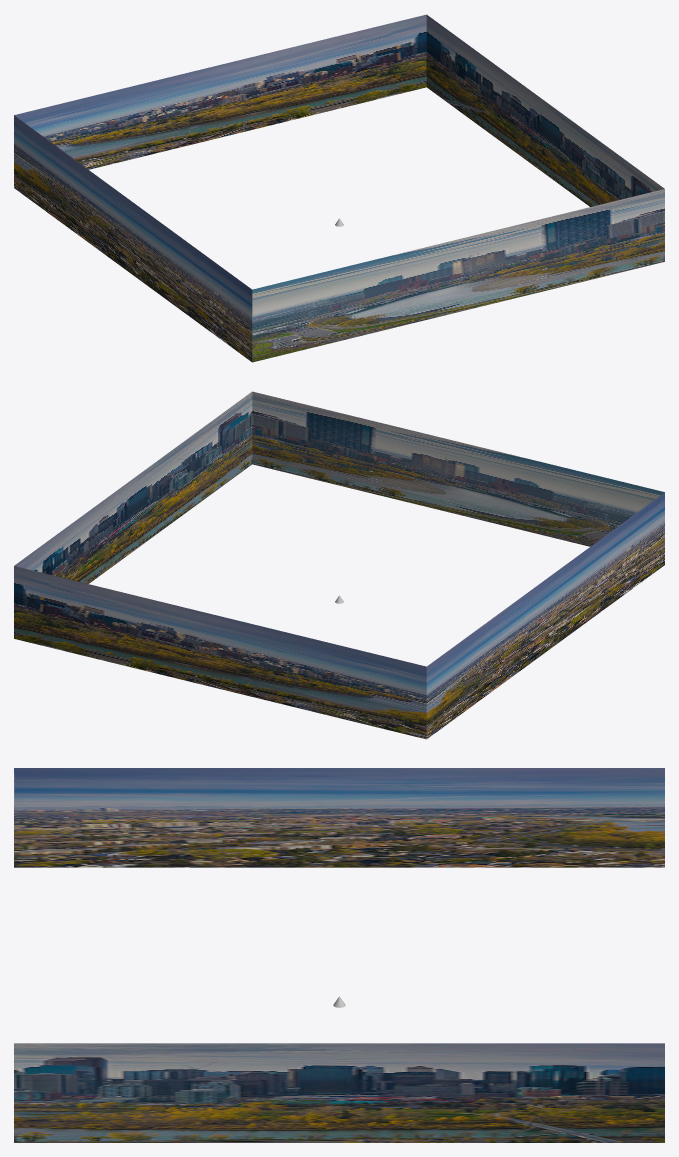
File: cone_origin_at_center_of_bottom.mtl.obj
3 views of the same model, one above another, from view 1: azimuth 30°, elevation 25°; view 2: azimuth 150°, elevation 25°; view 3: azimuth 270°, elevation 25° (orthographic). The views are drawn at different scales.
Parts seen in each view (by area): view 1: Cube_Cube.001; view 2: Cube_Cube.001; view 3: Cube_Cube.001.
Part boxes in pixels (bbox=[...]): Cube_Cube.001: bbox=[14, 14, 664, 362]; Cube_Cube.001: bbox=[14, 391, 664, 739]; Cube_Cube.001: bbox=[14, 768, 664, 1142].
Bounding box in the file's own units: 3.2 × 0.54 × 3.2.
